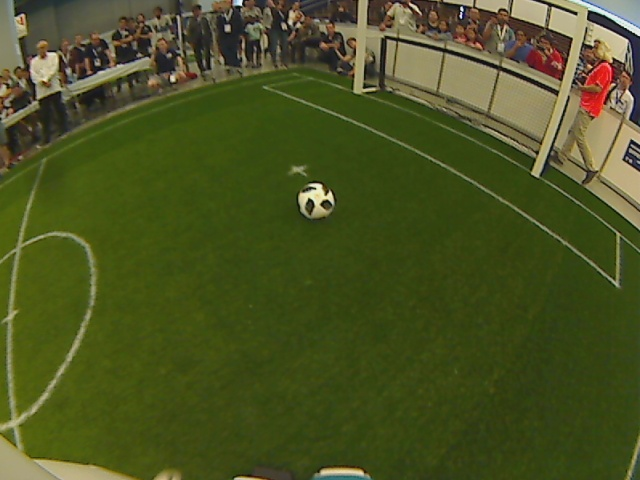ball: (296, 182, 335, 218)
